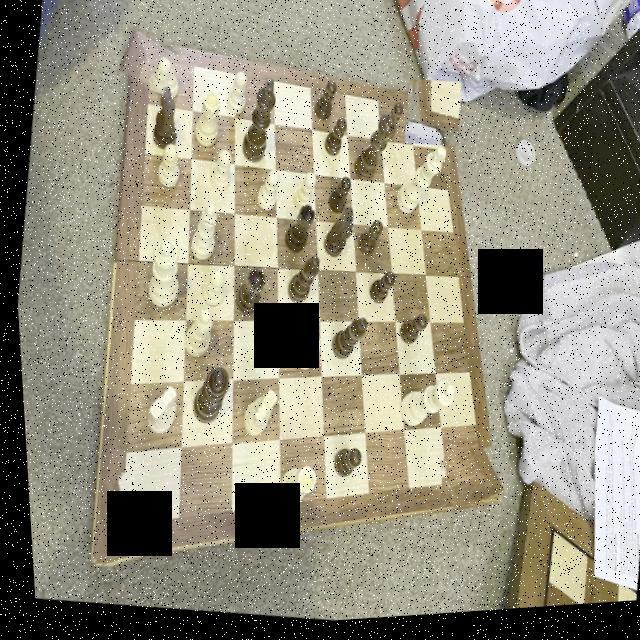chess-table-corners: (82, 469, 152, 573), (112, 13, 188, 98), (429, 447, 511, 522), (399, 81, 462, 156)
